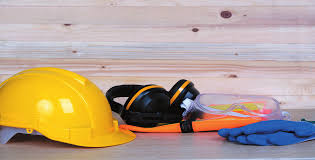Helmet: (4, 60, 135, 155)
